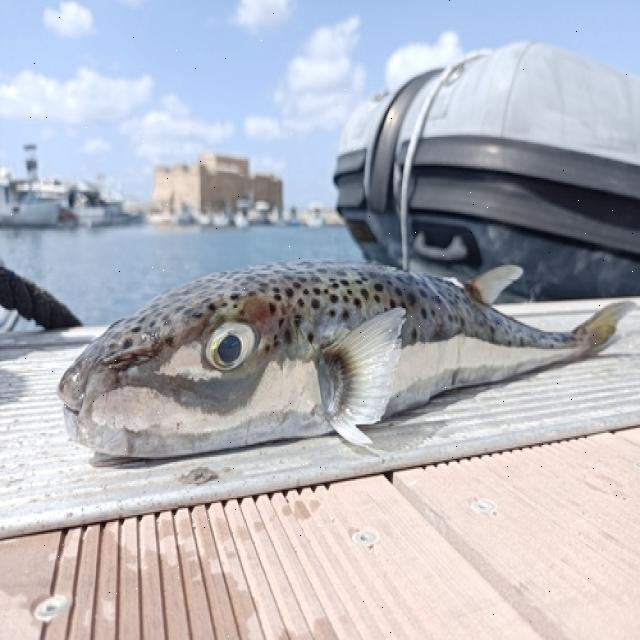Balik: (59, 262, 634, 456)
